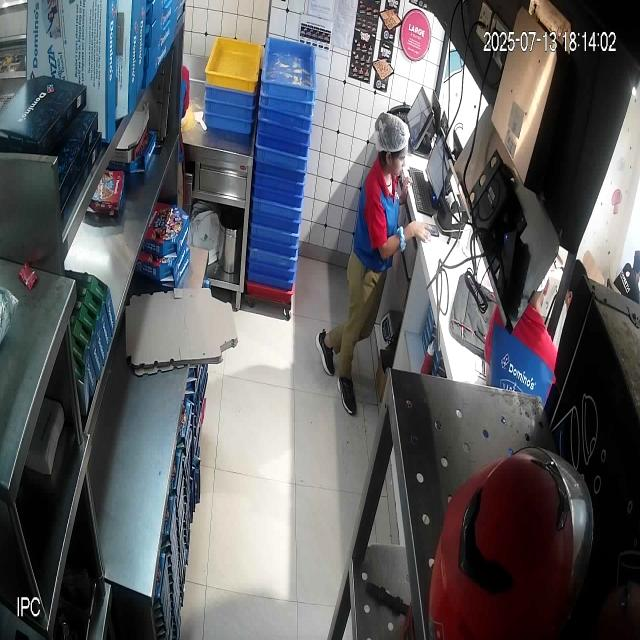helmet: (428, 448, 593, 639)
